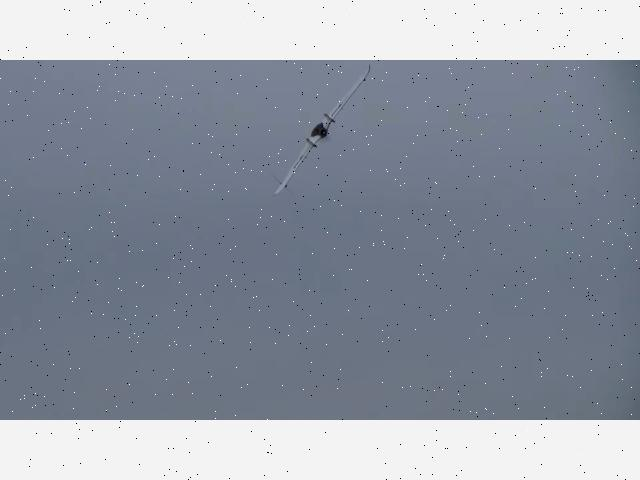Anti-Drone: (274, 65, 370, 194)
